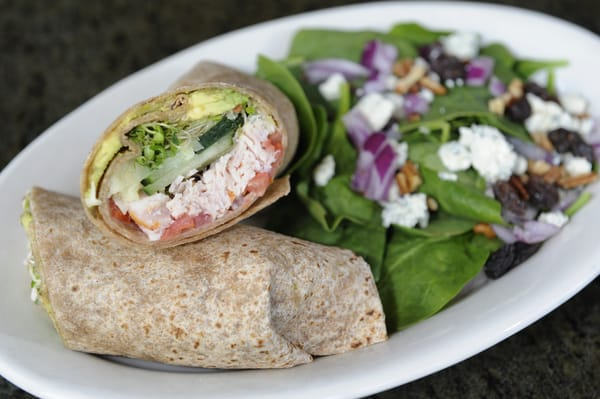curry: (3, 1, 600, 387)
